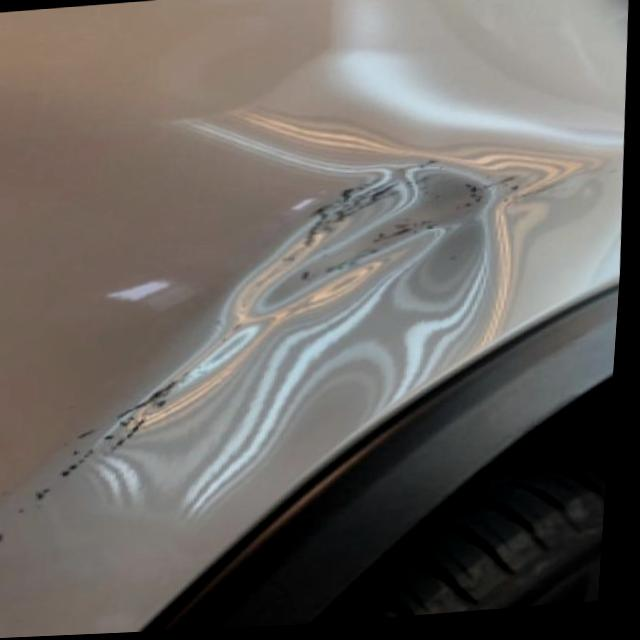PDR-Dent: (75, 121, 601, 518)
Scratch: (206, 150, 577, 341), (0, 357, 199, 554)
